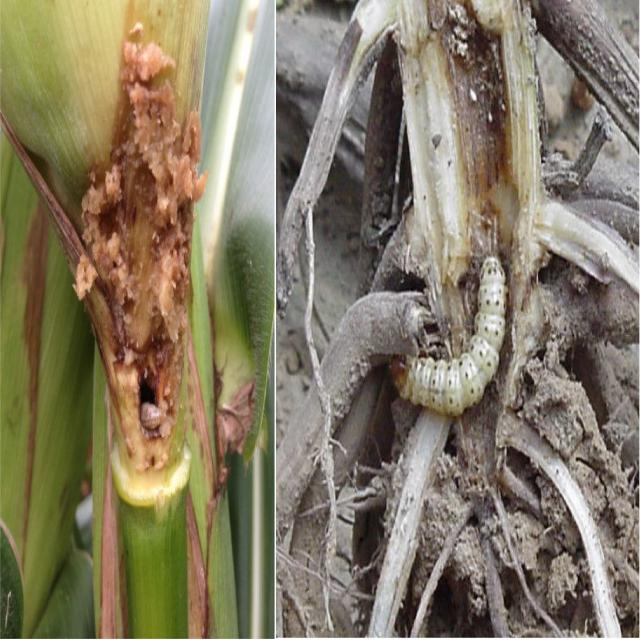cornborer-Larva-: (388, 244, 512, 424)
